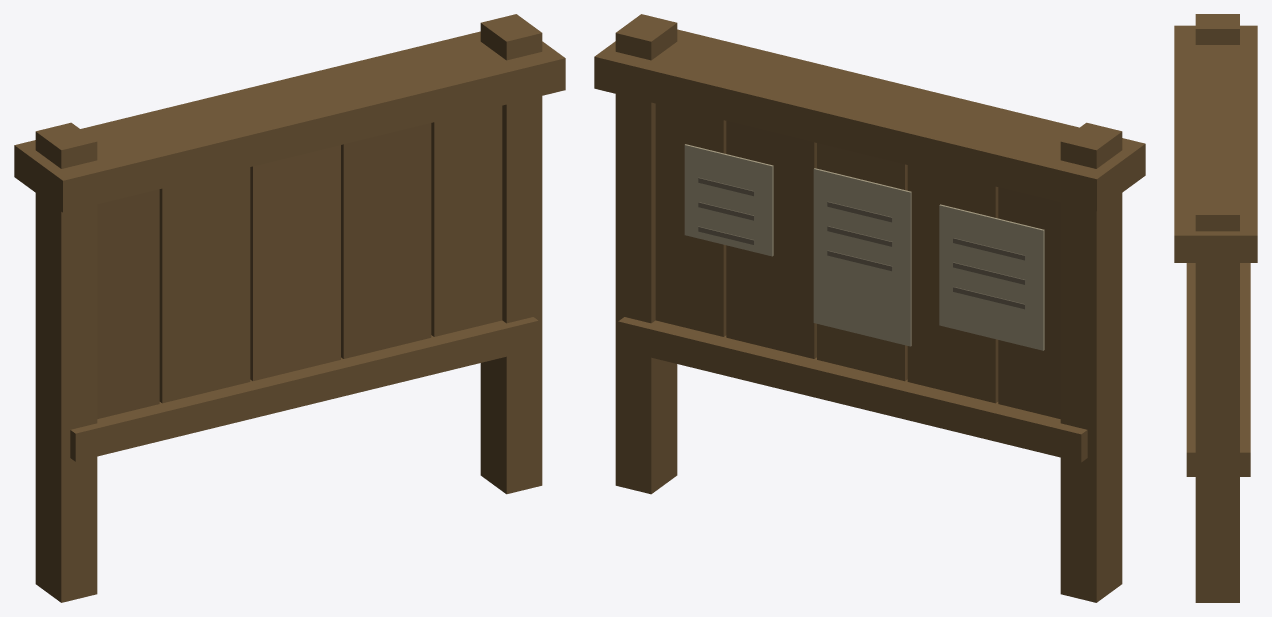
The model's file is court_Noticeboard_3x1.glb.
3 renders of one model, left to right at view 1: azimuth 30°, elevation 25°; view 2: azimuth 150°, elevation 25°; view 3: azimuth 270°, elevation 25°, orthographic. The views are drawn at different scales.
Visible parts, largest first — view 1: court_Noticeboard_3x1; view 2: court_Noticeboard_3x1; view 3: court_Noticeboard_3x1.
Boxes of the visible parts, x1=… form: court_Noticeboard_3x1: x1=14, y1=14, x2=565, y2=602; court_Noticeboard_3x1: x1=594, y1=14, x2=1145, y2=602; court_Noticeboard_3x1: x1=1174, y1=14, x2=1257, y2=602.
Size of the model in its own units: 2.8 by 2.41 by 0.47.
